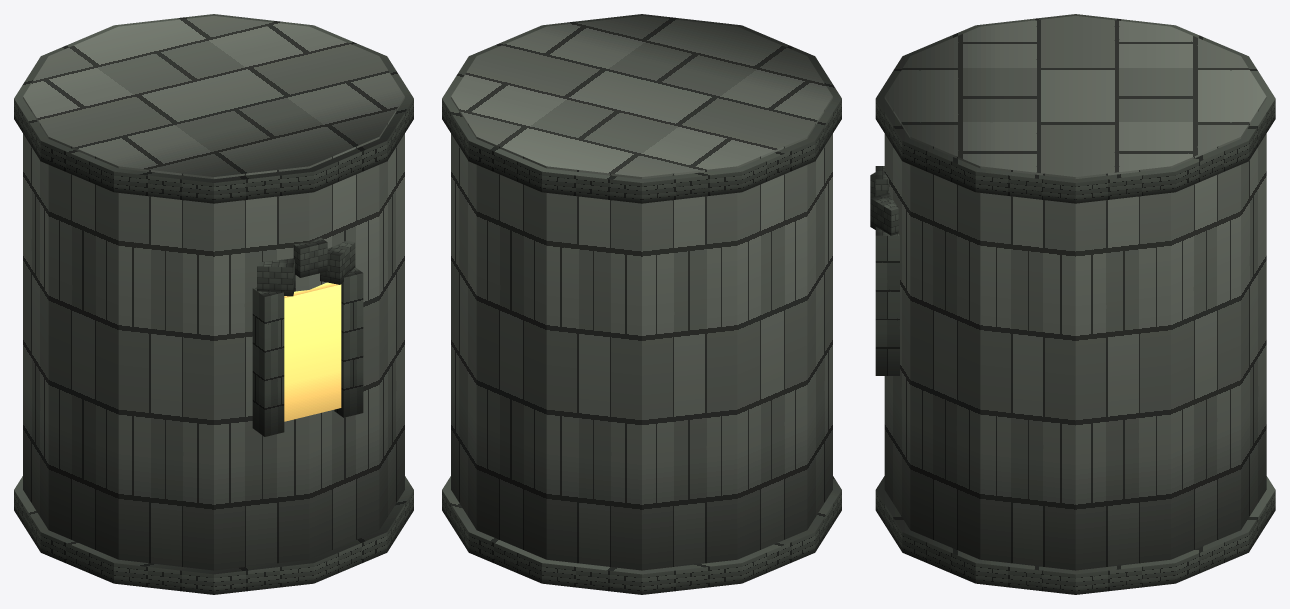
File: tower_round_mid.gltf
The picture shows the model from 3 angles, left to right: view 1: azimuth 30°, elevation 25°; view 2: azimuth 150°, elevation 25°; view 3: azimuth 270°, elevation 25°; orthographic projection.
Parts seen in each view (by area): view 1: tower_round_mid; view 2: tower_round_mid; view 3: tower_round_mid.
Boxes of the visible parts, x1,y1,x2,y2 form: tower_round_mid: (14,14,413,594); tower_round_mid: (442,14,841,594); tower_round_mid: (870,14,1275,594).
Size of the model in its own units: 0.88 by 1 by 0.8916.
1 material, 1 textured.
